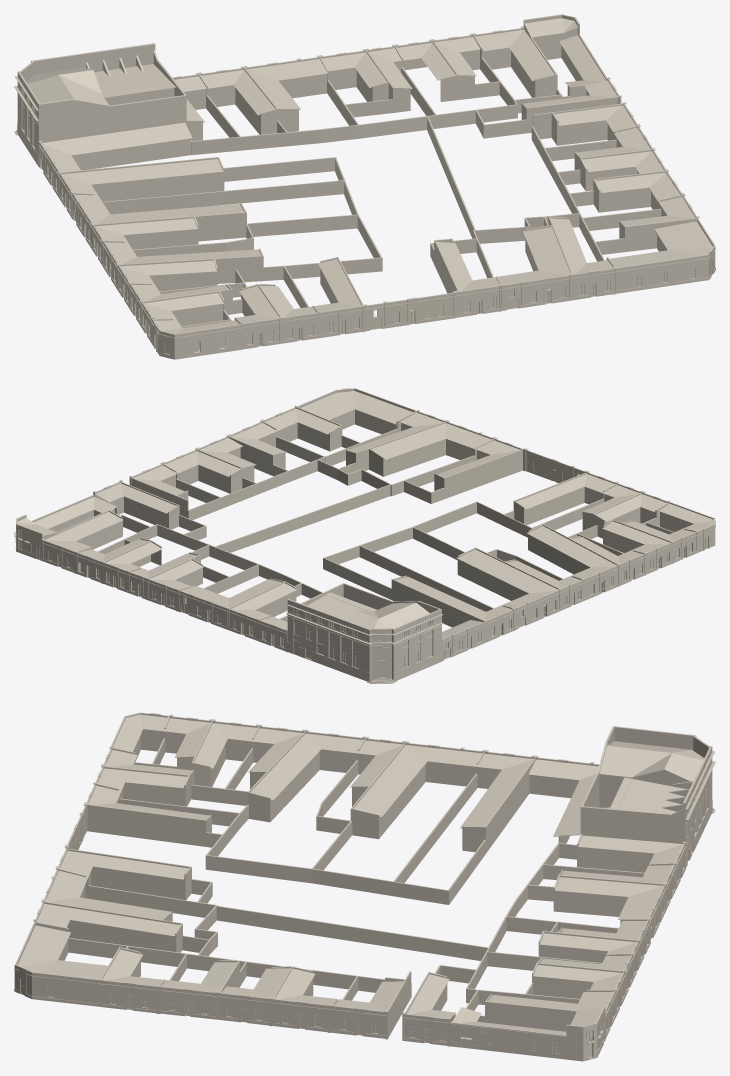
The picture shows the model from 3 angles, top to bottom: view 1: azimuth 30°, elevation 25°; view 2: azimuth 150°, elevation 25°; view 3: azimuth 270°, elevation 25°; orthographic projection. The views are drawn at different scales.
Parts seen in each view (by area): view 1: M26; view 2: M26; view 3: M26.
Part boxes in pixels (left/top/right/bottom): M26: left=14, top=14, right=715, bottom=359; M26: left=14, top=388, right=715, bottom=683; M26: left=14, top=712, right=715, bottom=1061.
Size of the model in its own units: 147 by 14.3 by 135.
